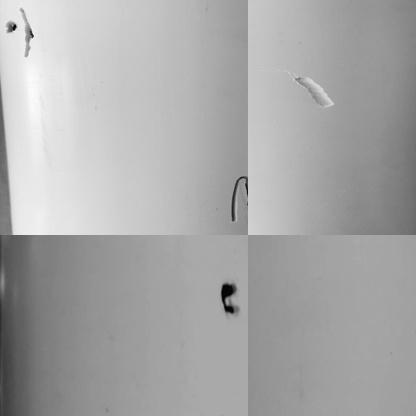fengxi: (226, 170, 255, 225), (18, 6, 37, 60)
kongdong: (213, 280, 239, 316), (6, 19, 18, 37)
sunshang: (294, 76, 335, 113)
